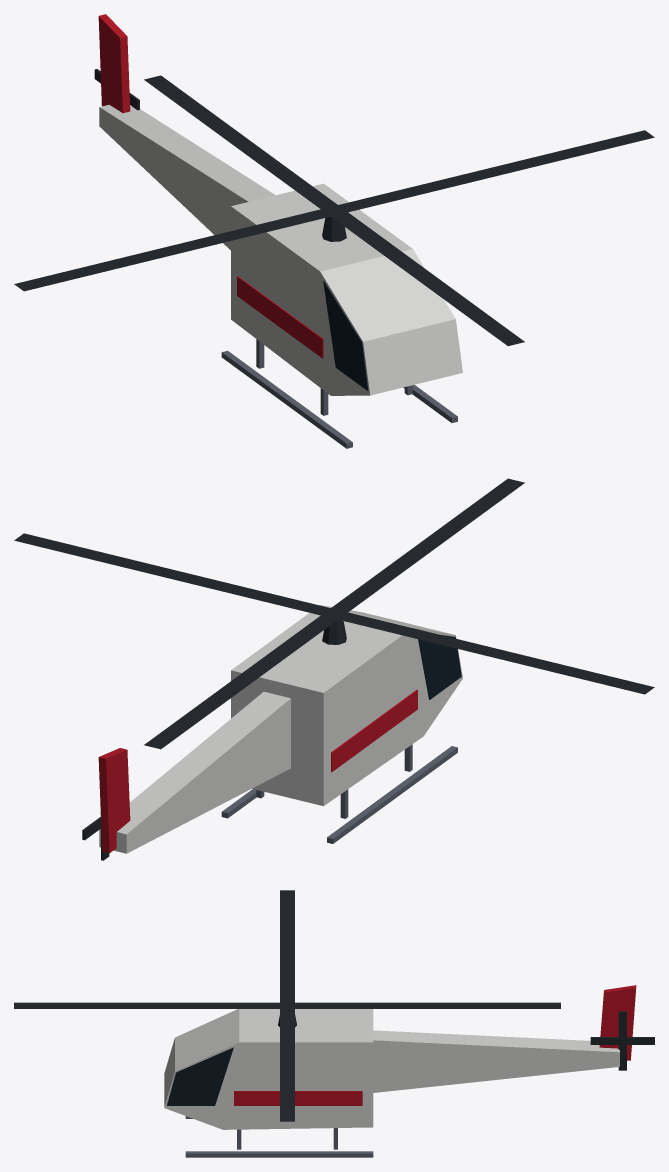
The model's file is helicopter.glb.
3 views of the same model, one above another, from view 1: azimuth 30°, elevation 25°; view 2: azimuth 150°, elevation 25°; view 3: azimuth 270°, elevation 25° (orthographic). The views are drawn at different scales.
Visible parts, largest first — view 1: helicopter, rotor; view 2: helicopter, rotor; view 3: helicopter, rotor, tailRotor.
Boxes of the visible parts, box(x1,y1,x2,y2) form: helicopter: box(98, 14, 462, 448); rotor: box(14, 75, 654, 345); helicopter: box(98, 605, 462, 853); rotor: box(14, 478, 654, 749); helicopter: box(164, 985, 636, 1157); rotor: box(14, 890, 560, 1121); tailRotor: box(590, 1011, 654, 1070).
Bounding box in the file's own units: 10.2 × 3.1 × 11.95.
